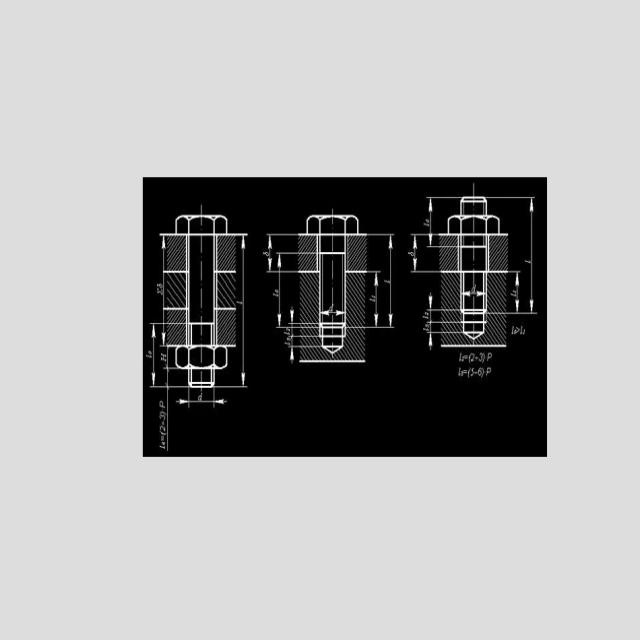marking_line: (368, 232, 395, 331), (275, 252, 299, 331), (237, 233, 249, 390), (265, 234, 298, 275), (366, 270, 383, 331), (176, 390, 228, 409), (158, 233, 166, 347), (149, 321, 161, 389), (289, 306, 300, 364)
